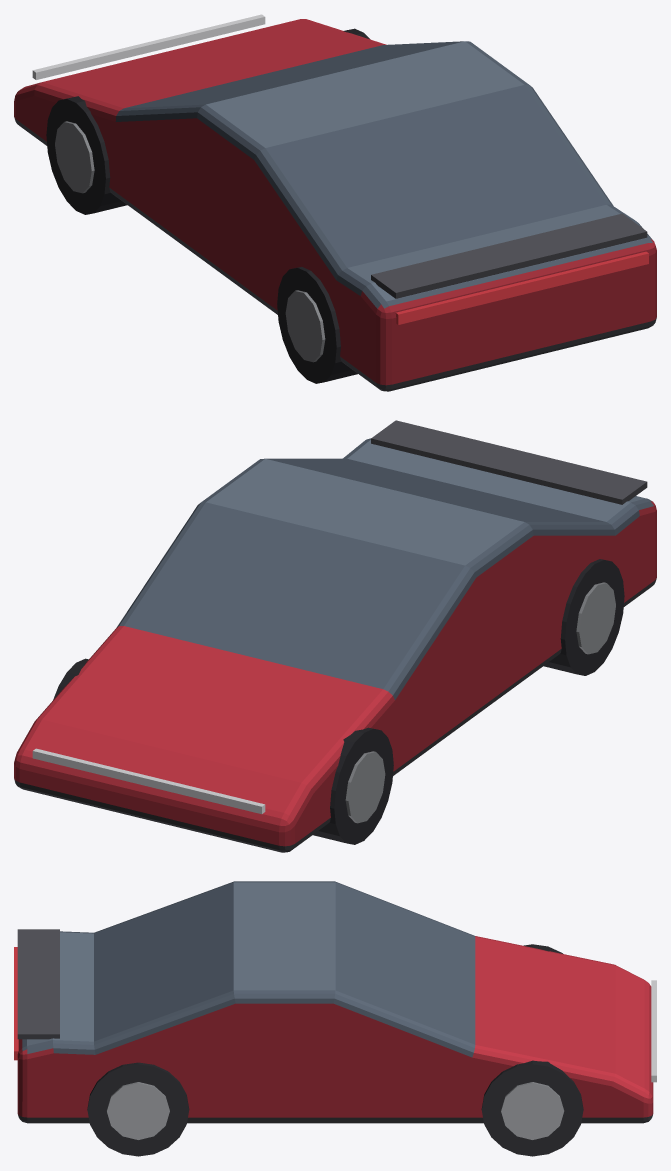
The model's file is bolt.glb.
The picture shows the model from 3 angles, top to bottom: view 1: azimuth 30°, elevation 25°; view 2: azimuth 150°, elevation 25°; view 3: azimuth 270°, elevation 25°; orthographic projection. The views are drawn at different scales.
Parts seen in each view (by area): view 1: bolt; view 2: bolt; view 3: bolt.
Boxes of the visible parts, x1,y1,x2,y2 form: bolt: (14,14,656,391); bolt: (14,420,656,852); bolt: (14,881,656,1156).
Bounding box in the file's own units: 2.05 × 1.25 × 4.55.
